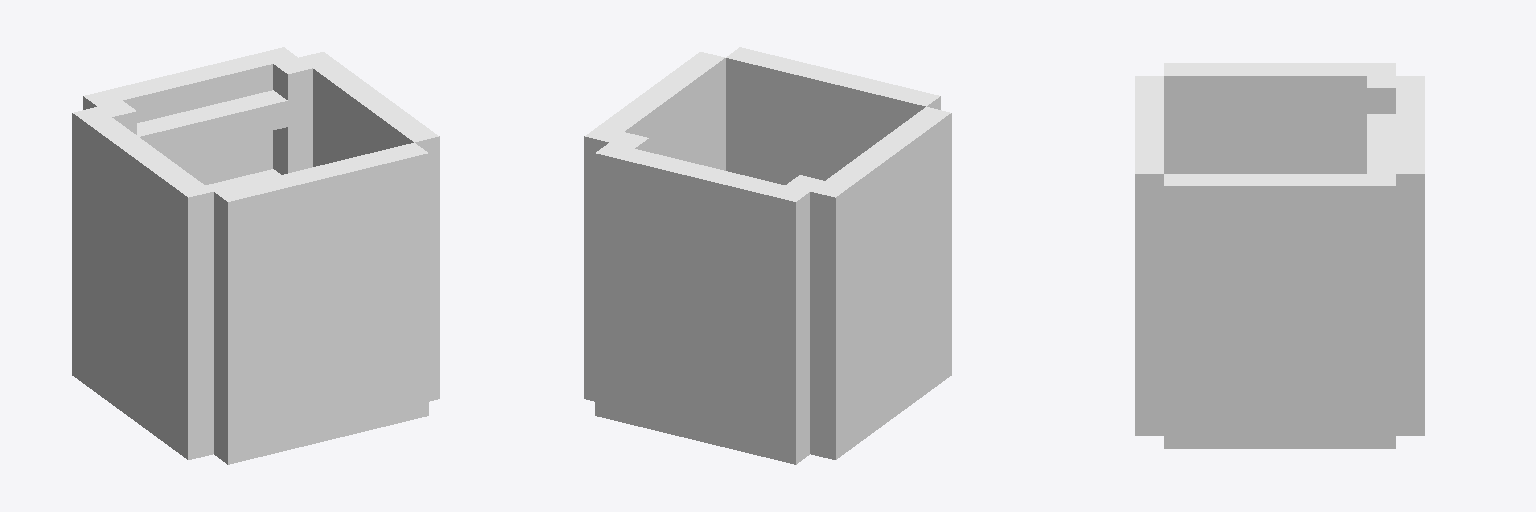
File: ManholeEntrance.obj
3 views of the same model, side by side, from view 1: azimuth 30°, elevation 25°; view 2: azimuth 150°, elevation 25°; view 3: azimuth 270°, elevation 25° (orthographic).
Visible parts, largest first — view 1: ManholeEntrance; view 2: ManholeEntrance; view 3: ManholeEntrance.
Part boxes in pixels (left/top/right/bottom): ManholeEntrance: left=72, top=47, right=439, bottom=464; ManholeEntrance: left=584, top=47, right=951, bottom=464; ManholeEntrance: left=1135, top=63, right=1424, bottom=448.
Size of the model in its own units: 10 by 10 by 10.